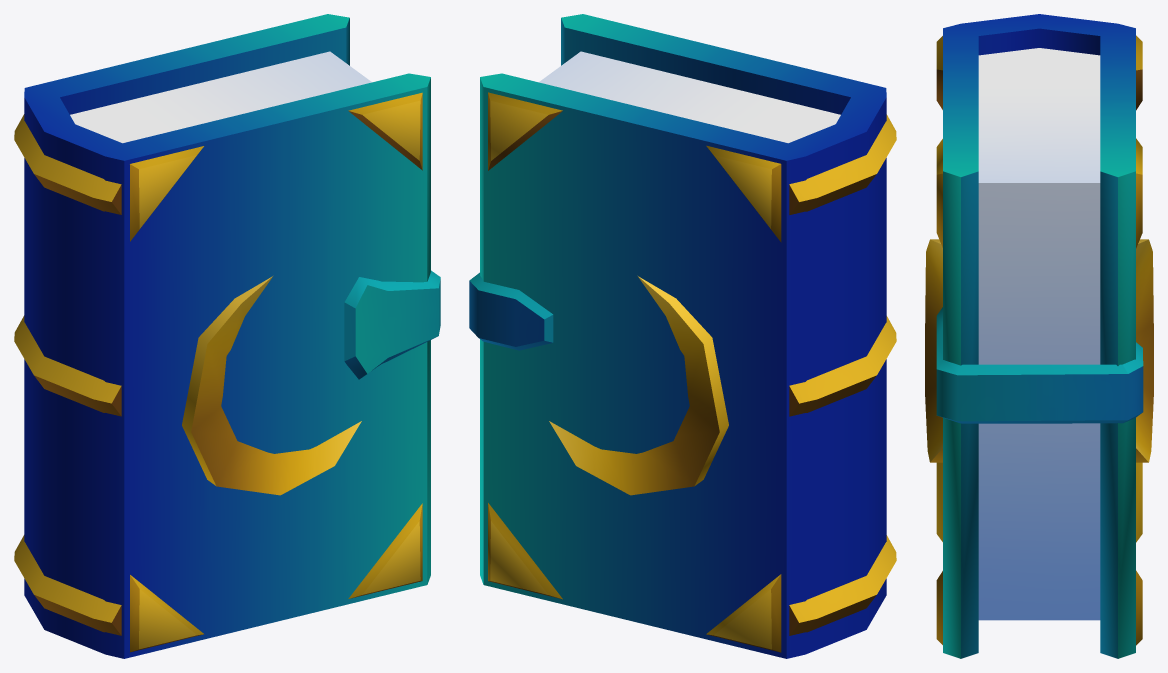
Rendered from SpellBook1h_12.fbx.
3 views of the same model, side by side, from view 1: azimuth 30°, elevation 25°; view 2: azimuth 150°, elevation 25°; view 3: azimuth 270°, elevation 25° (orthographic). The views are drawn at different scales.
Visible parts, largest first — view 1: SpellBook1h_12; view 2: SpellBook1h_12; view 3: SpellBook1h_12.
Boxes of the visible parts, x1,y1,x2,y2 form: SpellBook1h_12: (14, 14, 440, 658); SpellBook1h_12: (469, 14, 896, 658); SpellBook1h_12: (925, 14, 1153, 658).
Size of the model in its own units: 32.67 by 42.65 by 18.37.
